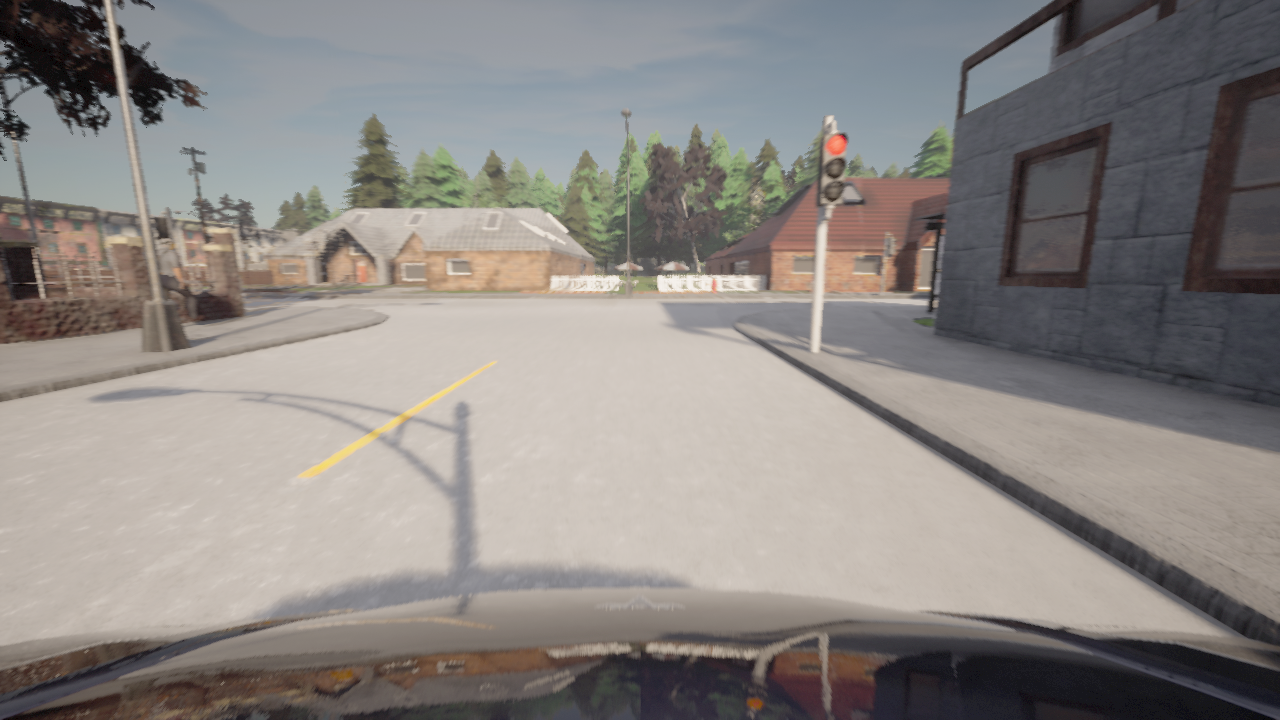cyclist: (0, 588, 1279, 719)
pedestrian: (157, 236, 203, 322)
